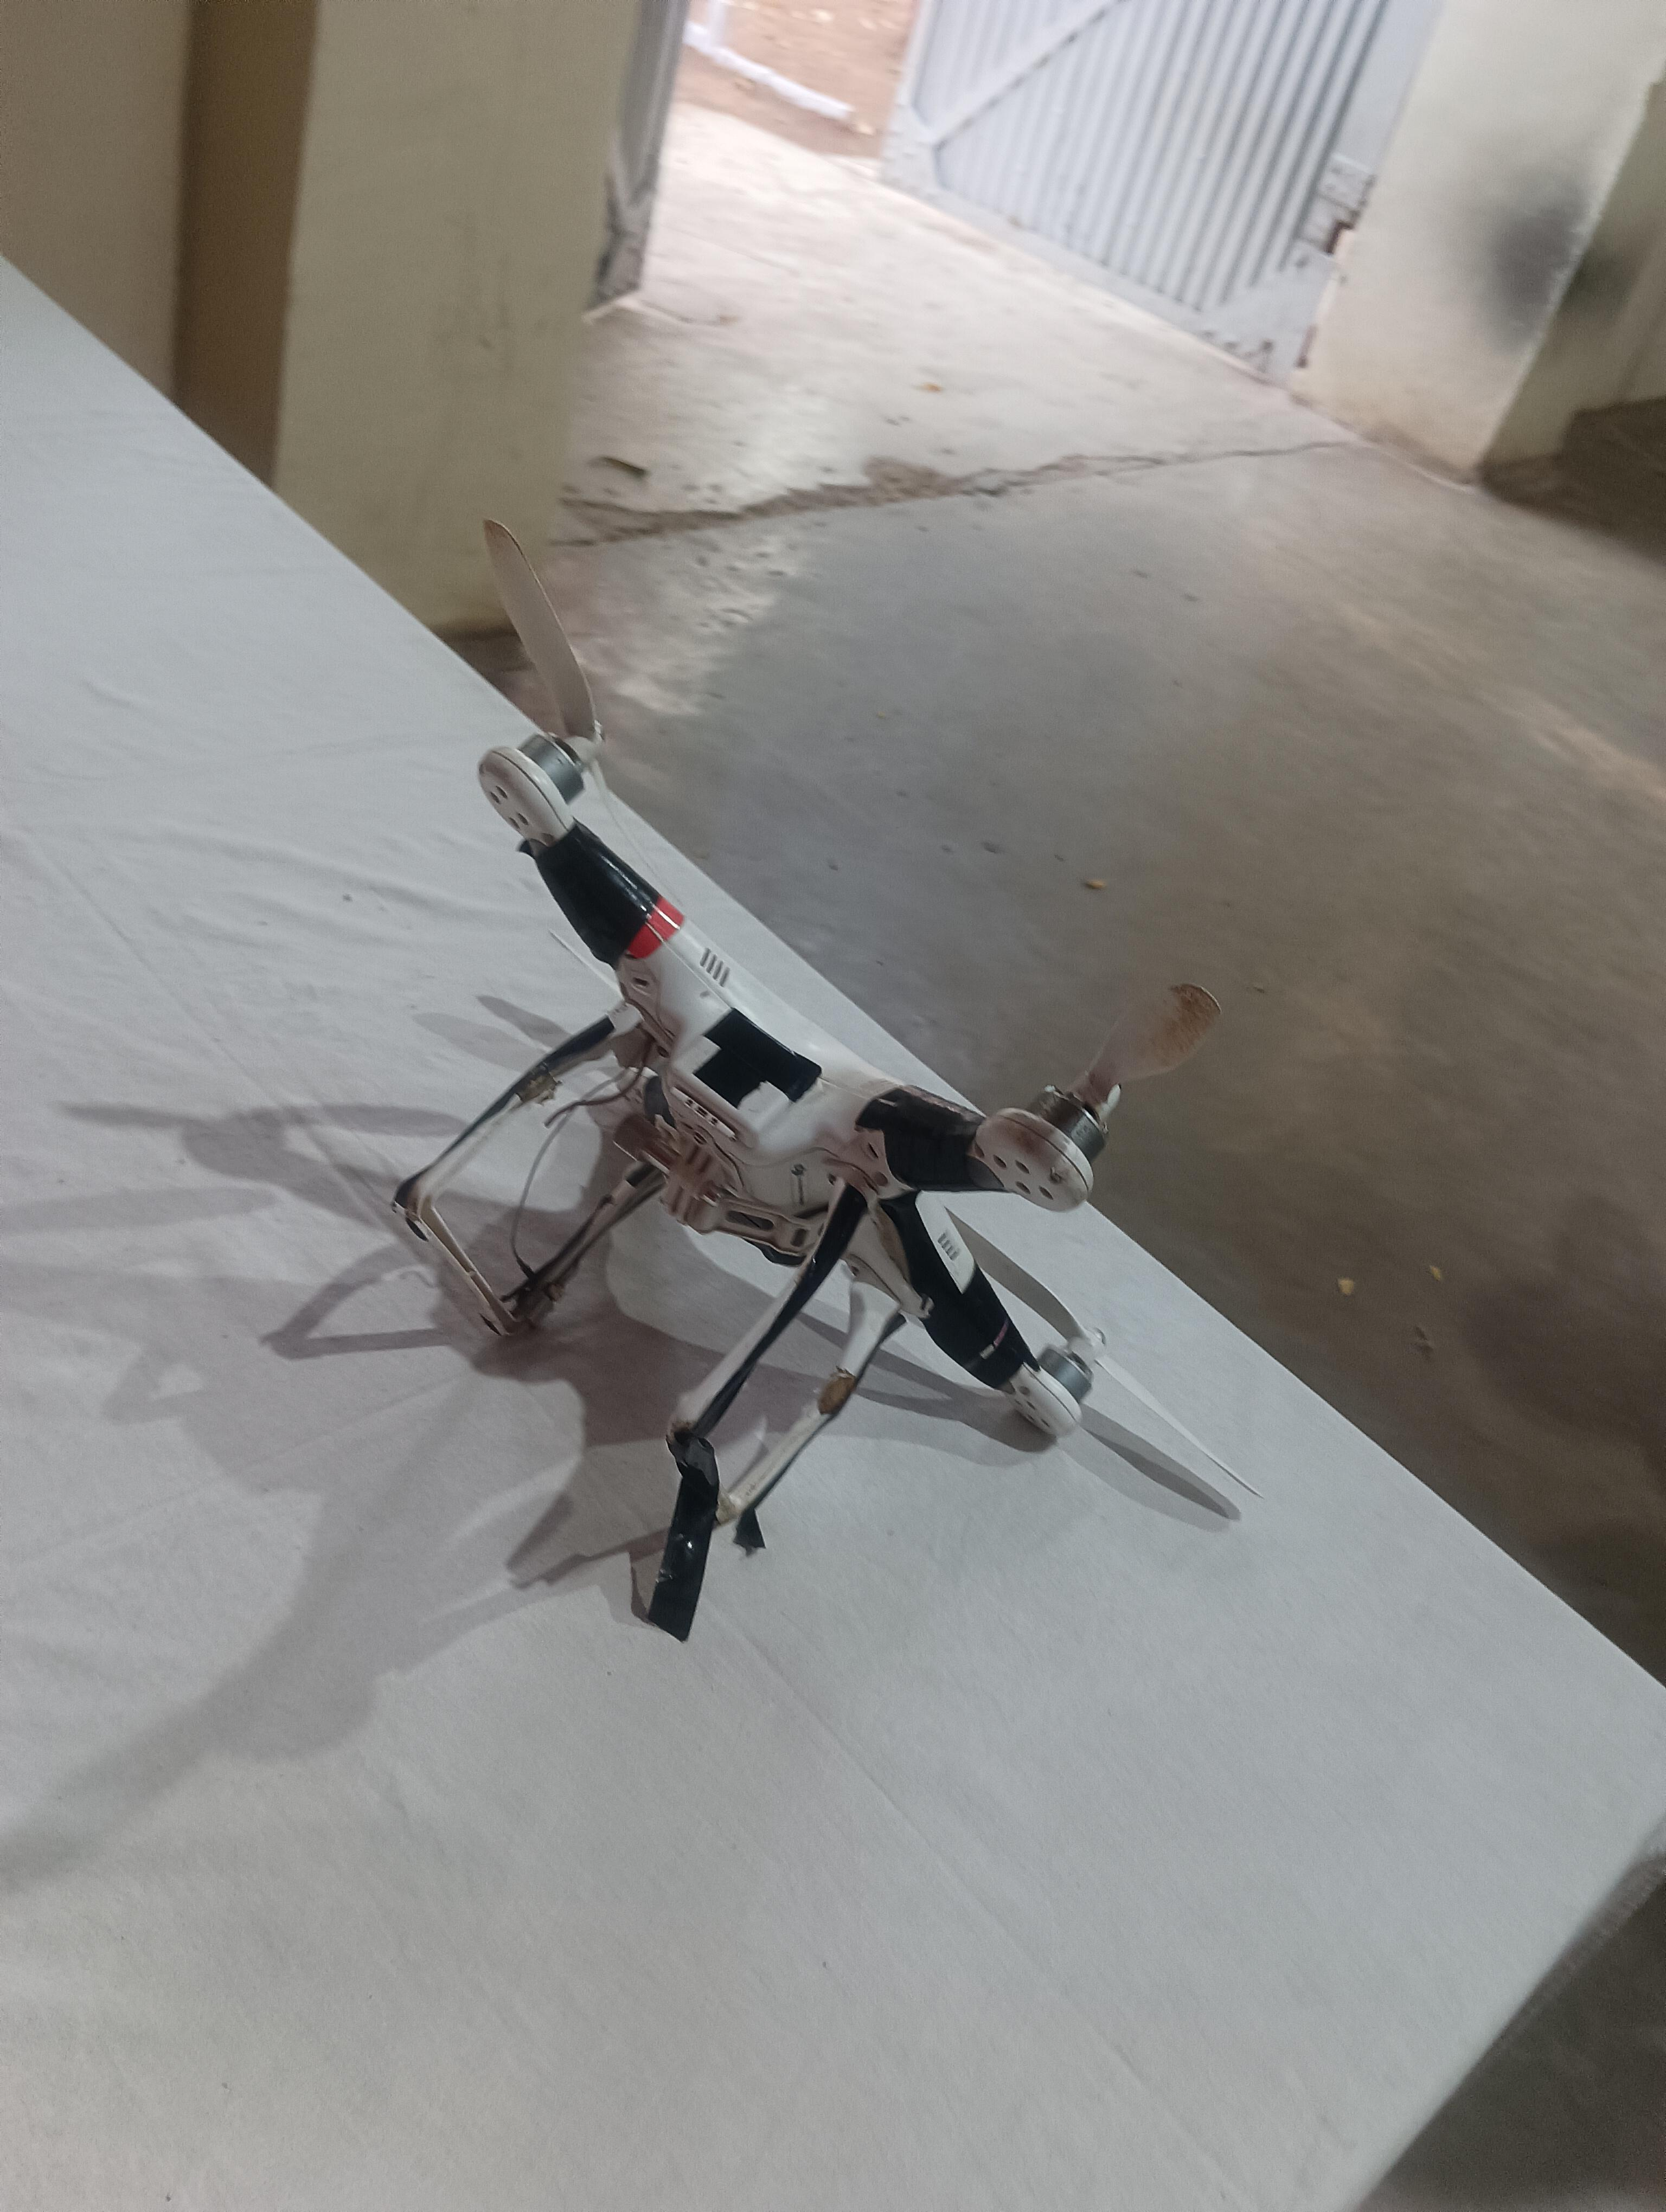drone: (305, 671, 1174, 1534)
